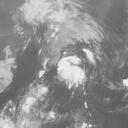cyclone: (55, 56, 88, 89)
